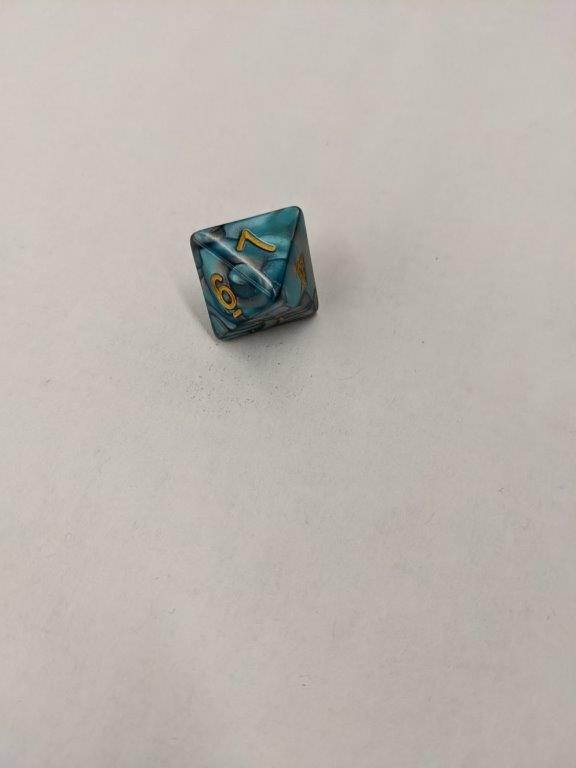d8-7: (188, 206, 320, 344)
